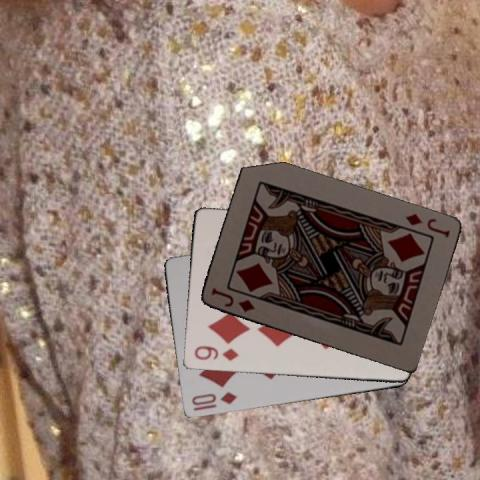10d: (189, 389, 238, 407)
9d: (192, 343, 240, 363)
Jd: (208, 283, 256, 314), (401, 211, 451, 239)
